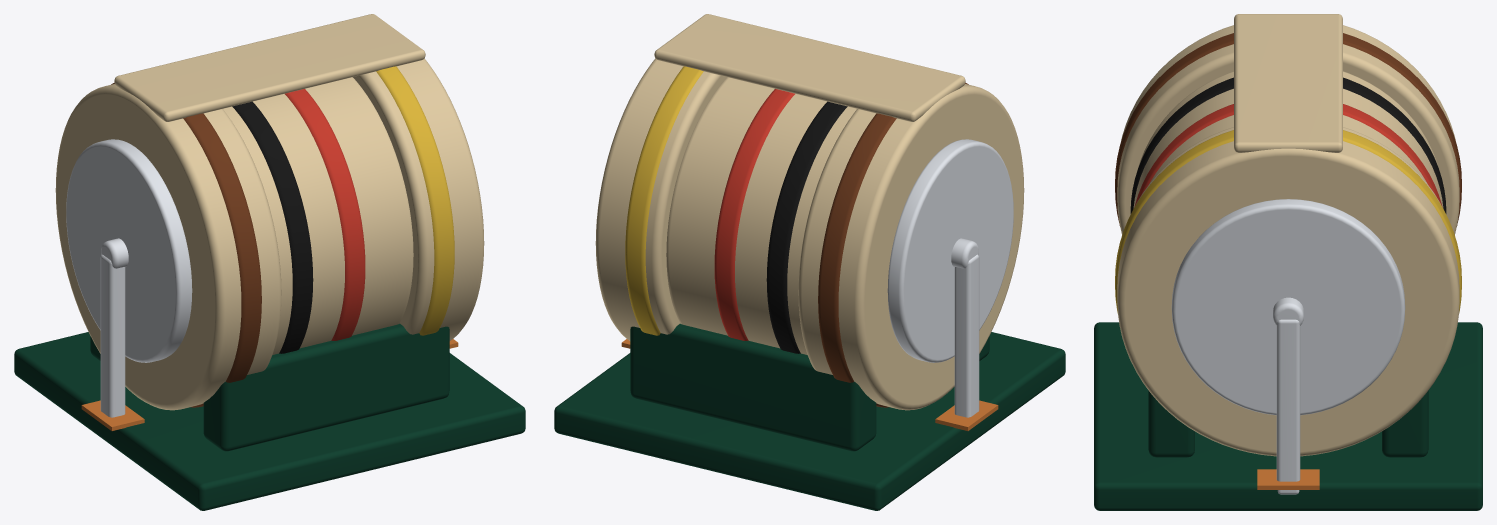
The model's file is resistor.glb.
3 views of the same model, side by side, from view 1: azimuth 30°, elevation 25°; view 2: azimuth 150°, elevation 25°; view 3: azimuth 270°, elevation 25° (orthographic). The views are drawn at different scales.
Parts seen in each view (by area): view 1: resistor; view 2: resistor; view 3: resistor.
Boxes of the visible parts, bbox=[...] form: resistor: bbox=[14, 14, 525, 510]; resistor: bbox=[554, 14, 1065, 510]; resistor: bbox=[1094, 14, 1482, 510].
Bounding box in the file's own units: 1.06 × 1 × 1.
